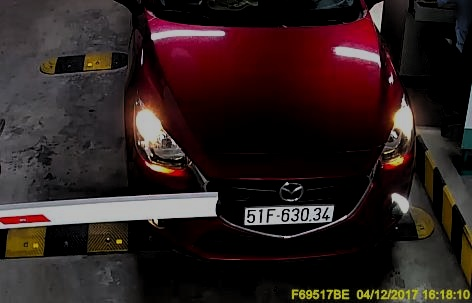plate: (238, 199, 339, 229)
